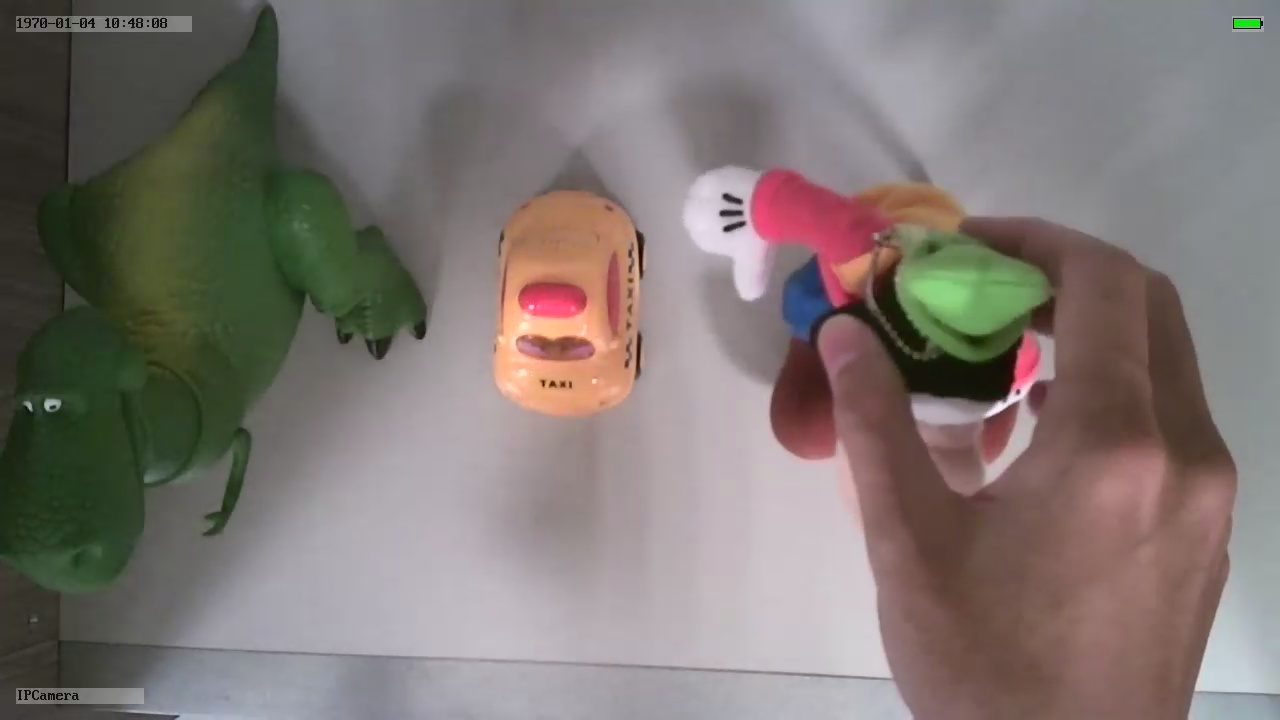car: (492, 177, 652, 416)
rex: (1, 94, 427, 595)
